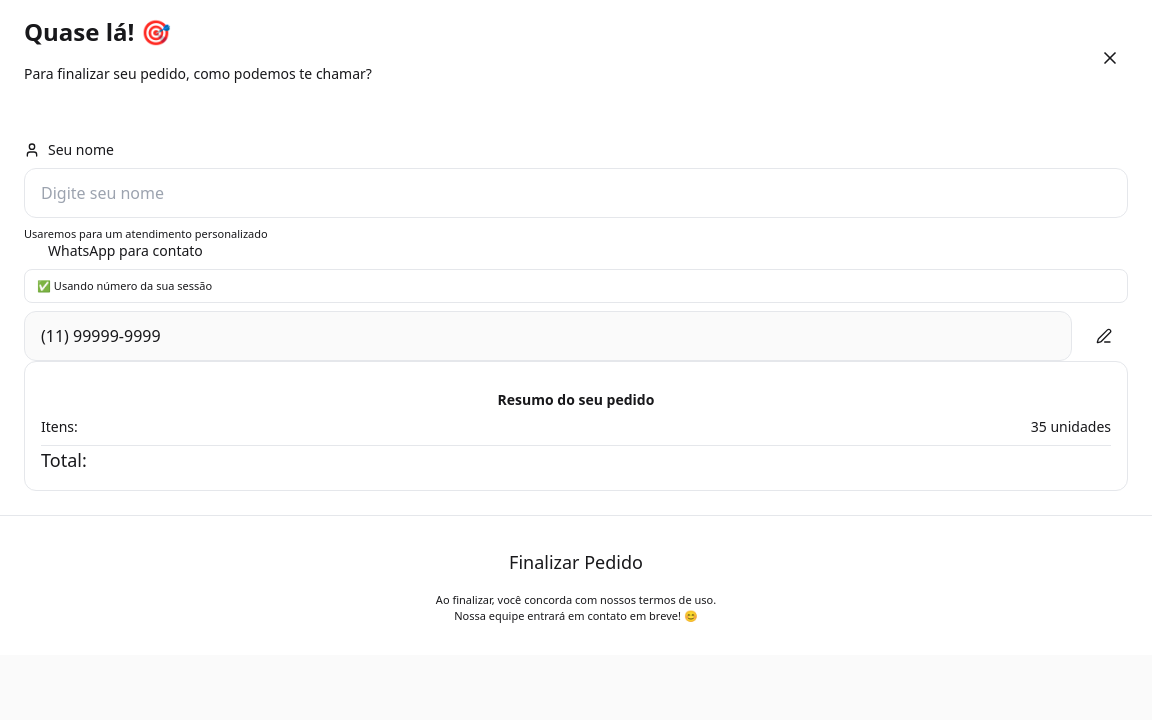
it: CustomerNameModal - CartSidebar Integration › Form Submission › shows loading state during submission
Preencher e submeter
Type "João Silva" into the field with placeholder "Digite seu nome".
click(576, 193); type("João Silva")  # box [24, 168, 1128, 218]
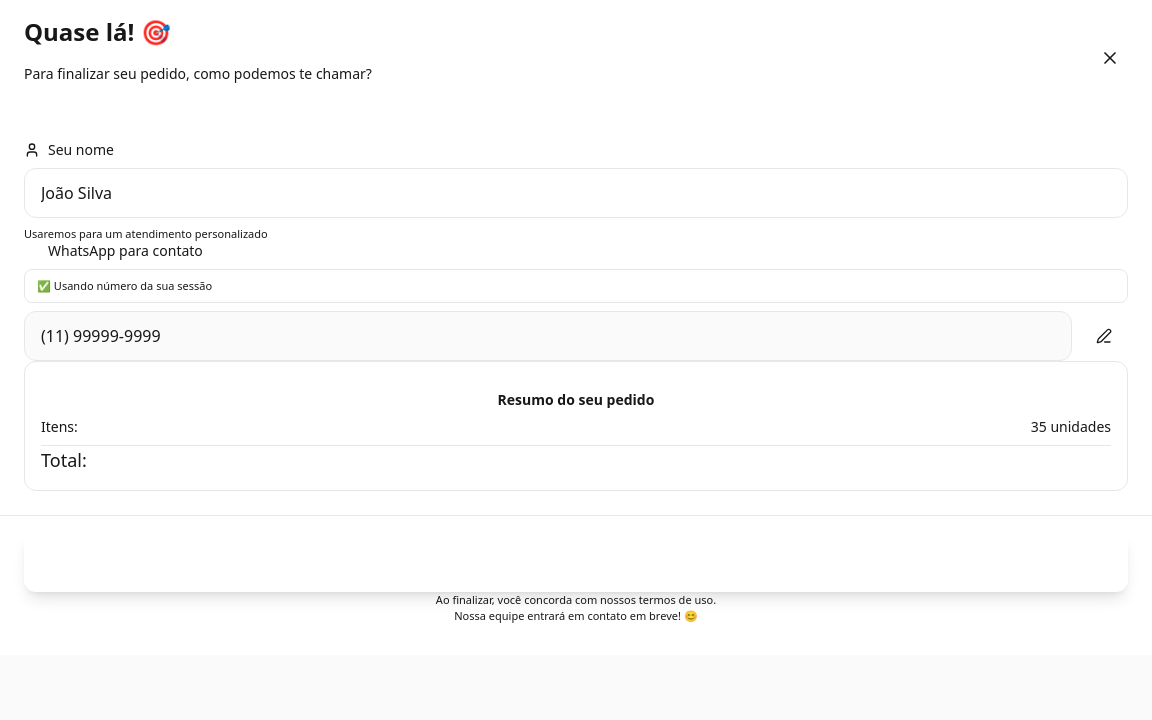
Click the button "Finalizar Pedido".
click(576, 562)  # box [24, 532, 1128, 592]
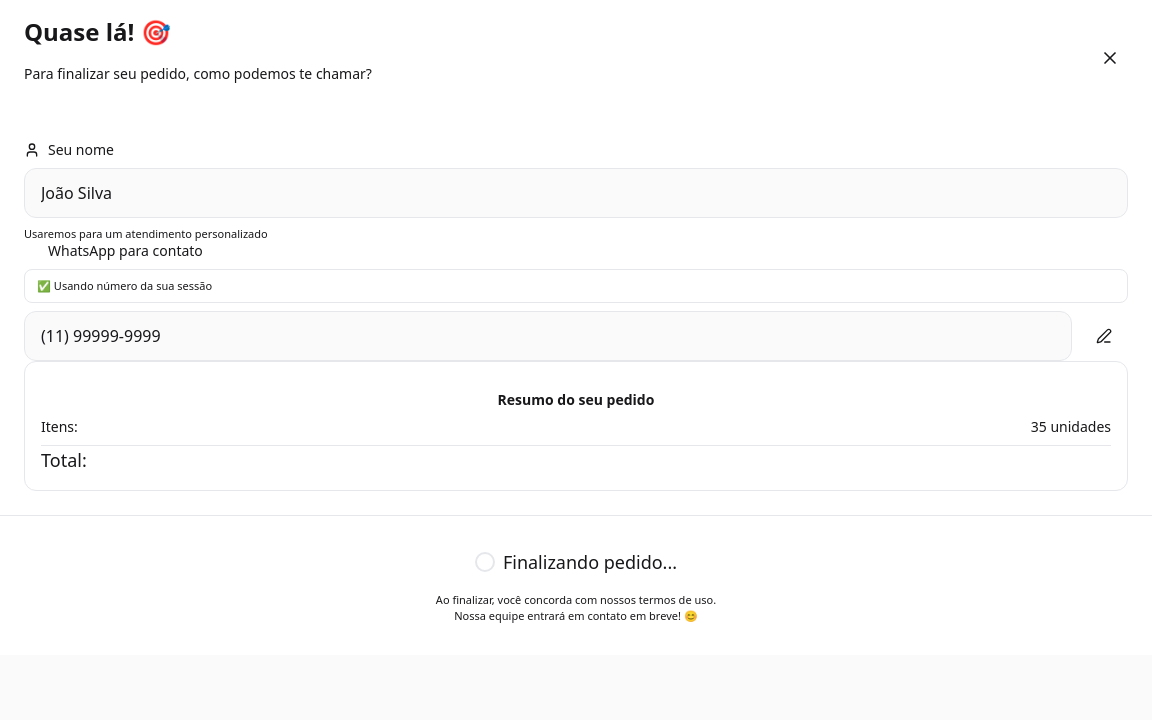
Expected: the text "Finalizando pedido..." is shown, [475, 550, 677, 574]
Expected: the button "Finalizar Pedido" is disabled, [24, 532, 1128, 592]
